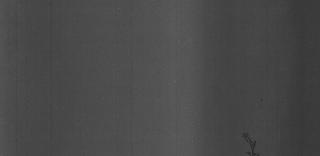water spot: (236, 128, 262, 156)
